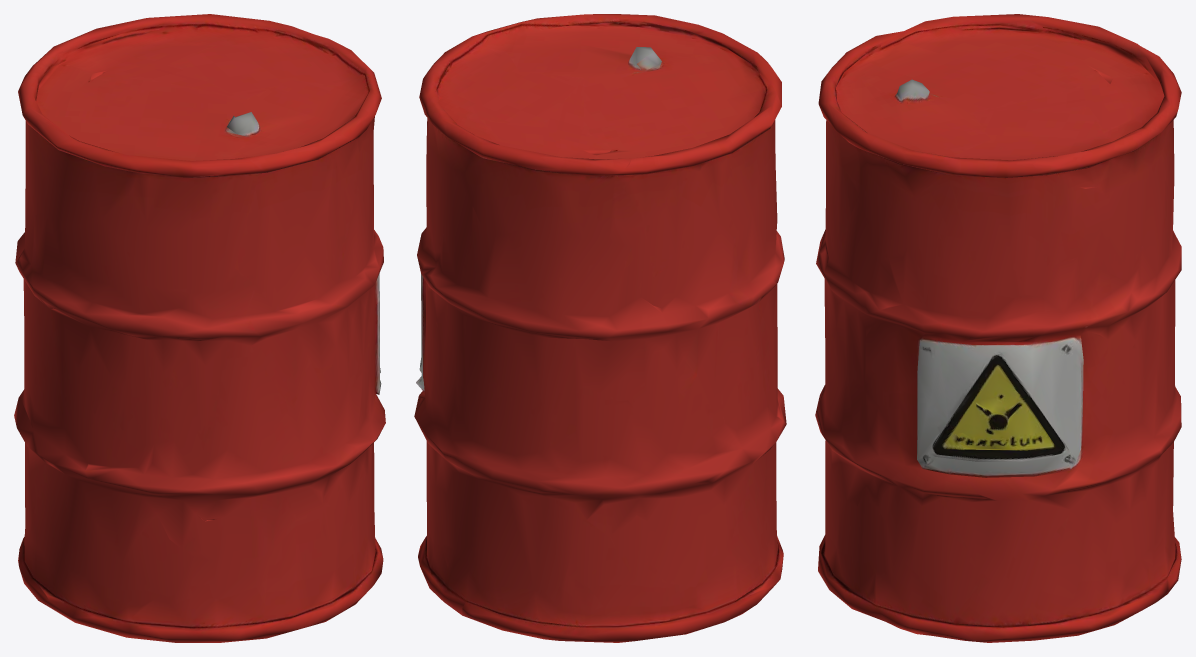
Rendered from barrel_red.glb.
3 renders of one model, left to right at view 1: azimuth 30°, elevation 25°; view 2: azimuth 150°, elevation 25°; view 3: azimuth 270°, elevation 25°, orthographic.
Parts seen in each view (by area): view 1: tripo_node_3b29c467-ea56-4b38-9f7b-6178861e2709; view 2: tripo_node_3b29c467-ea56-4b38-9f7b-6178861e2709; view 3: tripo_node_3b29c467-ea56-4b38-9f7b-6178861e2709.
Boxes of the visible parts, x1,y1,x2,y2 form: tripo_node_3b29c467-ea56-4b38-9f7b-6178861e2709: (14,14,385,642); tripo_node_3b29c467-ea56-4b38-9f7b-6178861e2709: (414,14,786,642); tripo_node_3b29c467-ea56-4b38-9f7b-6178861e2709: (815,14,1181,642).
Size of the model in its own units: 0.6934 by 1 by 0.6811.
Materials: 1 (1 with a texture image).
